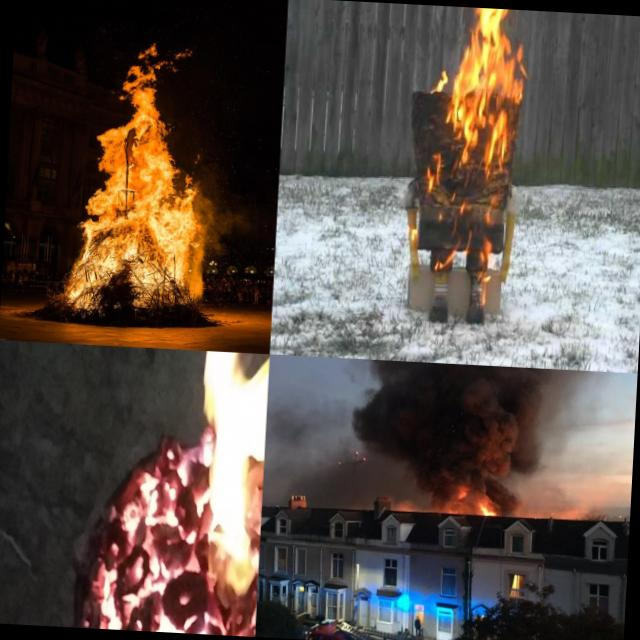fire: (60, 39, 222, 314), (414, 6, 536, 274), (179, 350, 270, 637), (74, 437, 189, 633), (450, 486, 467, 512), (474, 500, 499, 516)
smoke: (328, 358, 592, 496)
